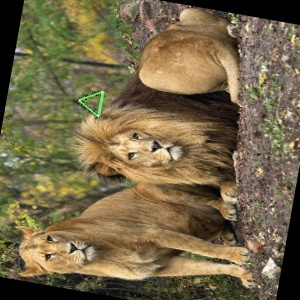triangle: (77, 88, 106, 118)
